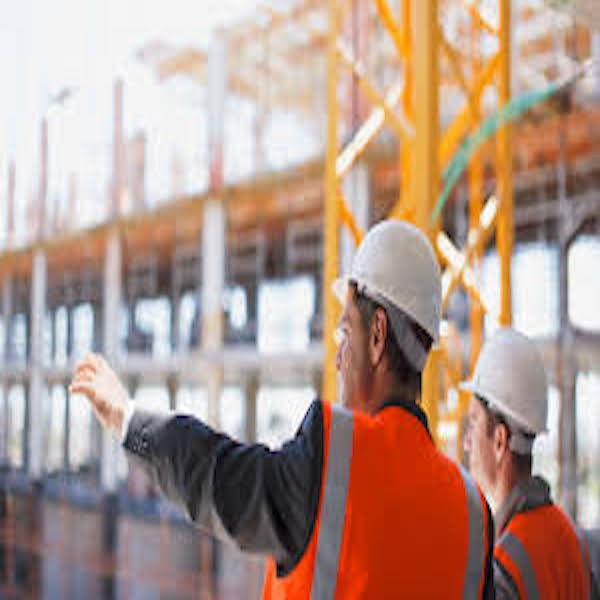helmet: (357, 217, 447, 326), (481, 330, 553, 430)
vest: (267, 394, 481, 600), (489, 485, 592, 600)
